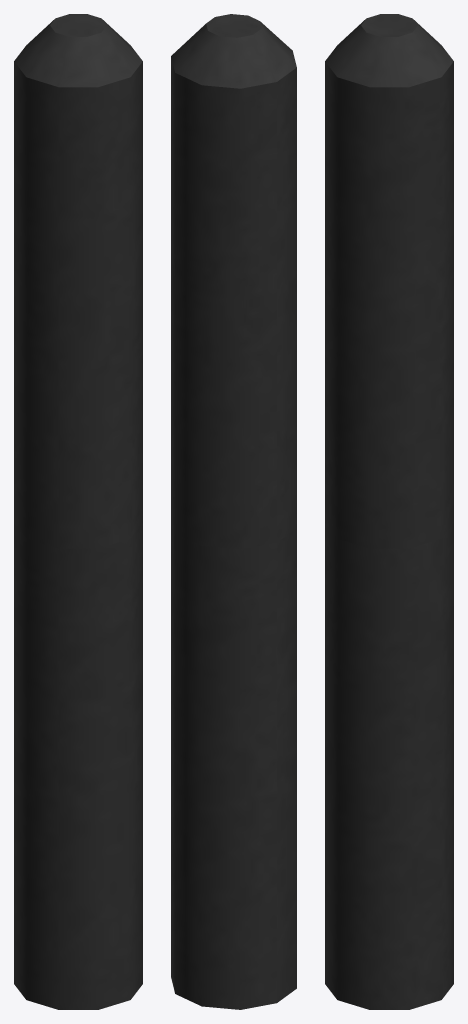
File: IronFence2.fbx
The picture shows the model from 3 angles, left to right: view 1: azimuth 90°, elevation 25°; view 2: azimuth 150°, elevation 25°; view 3: azimuth 270°, elevation 25°; orthographic projection.
Parts seen in each view (by area): view 1: IronFence2; view 2: IronFence2; view 3: IronFence2.
Part boxes in pixels (<box>): IronFence2: <box>14,14,142,1009</box>; IronFence2: <box>171,14,296,1009</box>; IronFence2: <box>325,14,453,1009</box>.
Bounding box in the file's own units: 47.62 × 411 × 50.07.
